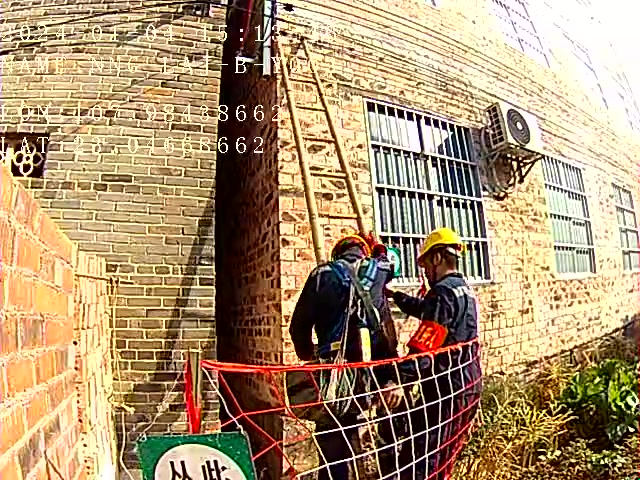halt: (420, 231, 466, 281), (331, 237, 373, 269)
inear: (429, 251, 448, 277)
